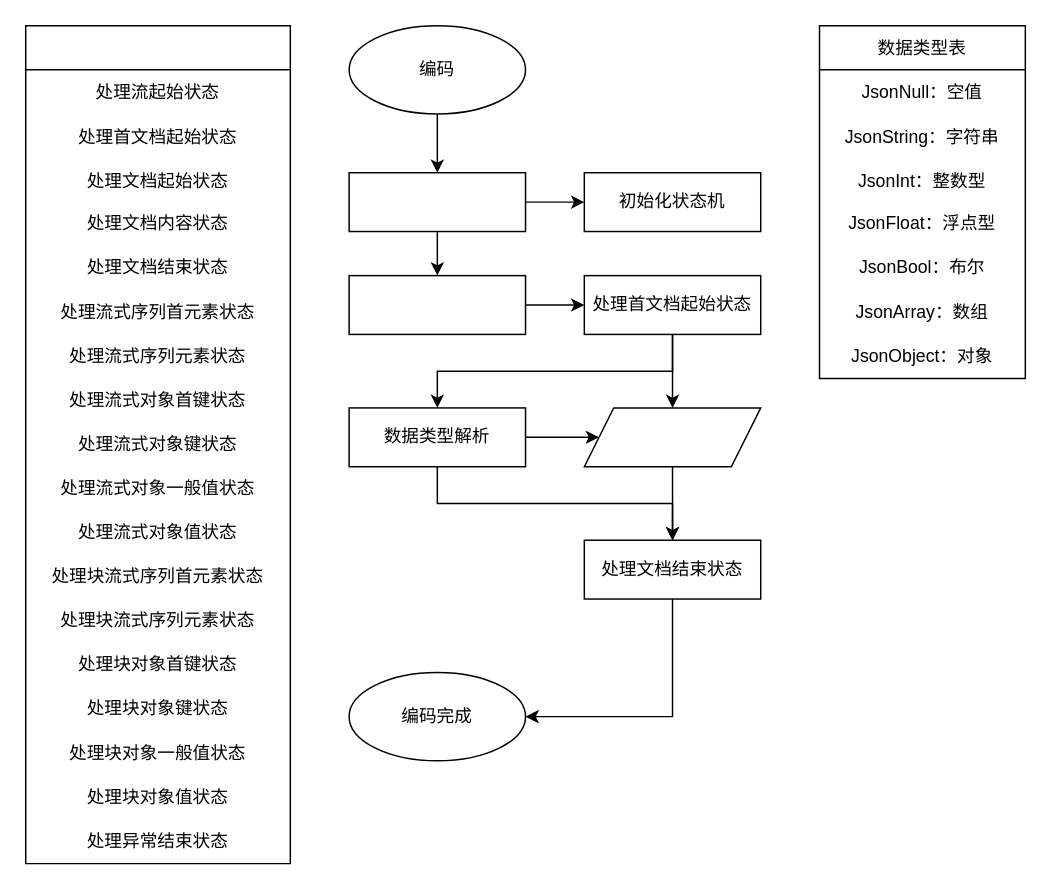
Image size: 1051x889. Some labels were removed from this diagram. Here are the shapes that lost their labels. From the top down, the box of each, then its label:
(348, 171, 526, 232): 初始化编码器
(348, 274, 526, 334): 状态机状态轮询
(24, 24, 290, 864): 状态机状态表
(583, 406, 761, 467): 其他状态
